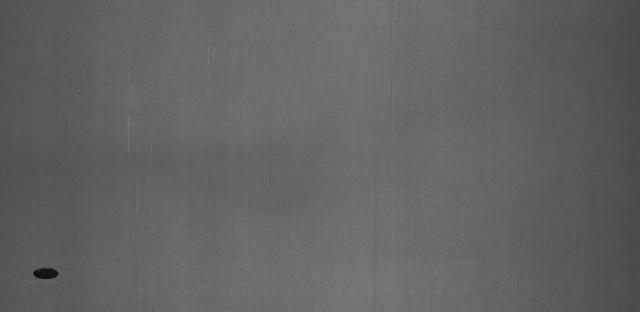punching_hole: (29, 266, 62, 282)
